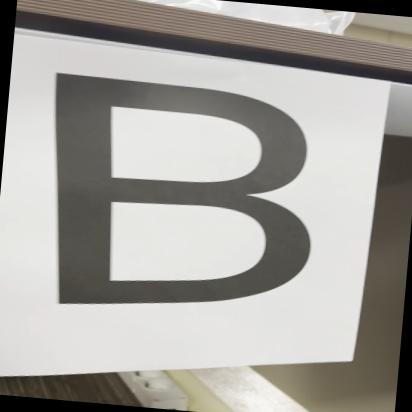seat: (2, 53, 360, 340)
